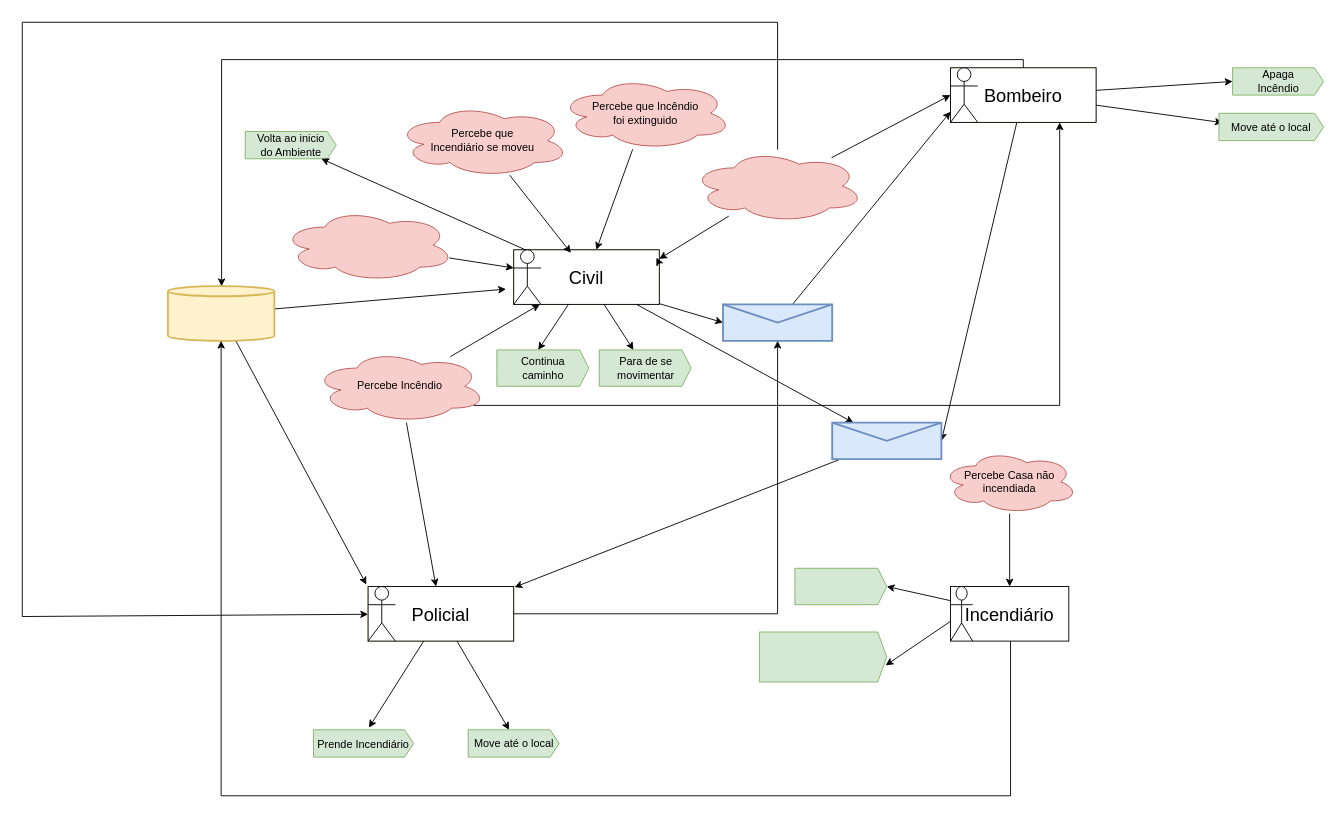
This 1340x819 diagram has some shape labels left out. Each missing label, with the centre of its shape:
"Ambiente" belongs at [221,313].
"Chama Bombeiro" belongs at [777,322].
"Incendeia Aleatoriamente" belongs at [840,586].
"Notifica Policial" belongs at [886,440].
"Percebe Incendiário" belongs at [777,185].
"Percebe que percorreu todo cenário" belongs at [368,245].
"Se Move para casa adjacente" belongs at [822,656].
